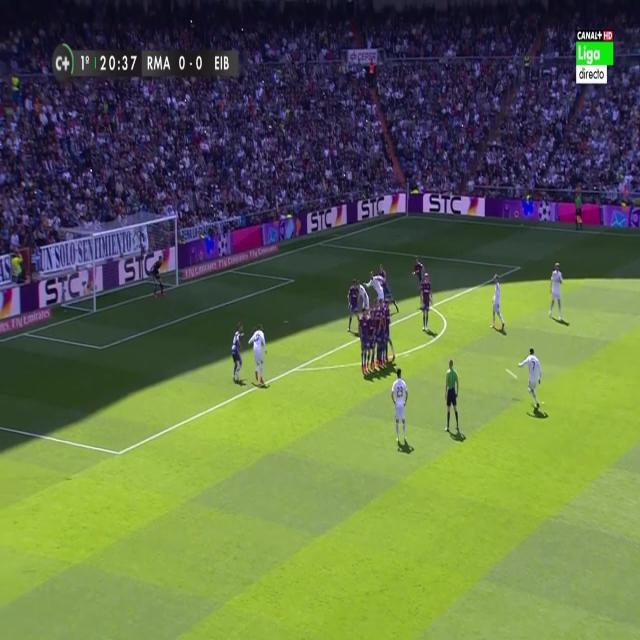Ball: (503, 365, 520, 385)
Goalkeeper: (148, 250, 167, 304)
Player: (517, 347, 543, 416), (391, 368, 410, 449), (248, 323, 268, 390), (378, 264, 402, 314), (548, 260, 565, 325), (491, 271, 508, 333), (362, 270, 389, 308), (231, 322, 245, 388), (345, 277, 360, 337), (420, 270, 434, 334), (358, 308, 370, 376), (368, 308, 378, 376), (385, 296, 395, 364), (357, 277, 371, 318), (379, 298, 386, 372), (411, 257, 424, 294)
Referee: (442, 354, 462, 440), (571, 186, 585, 236)
